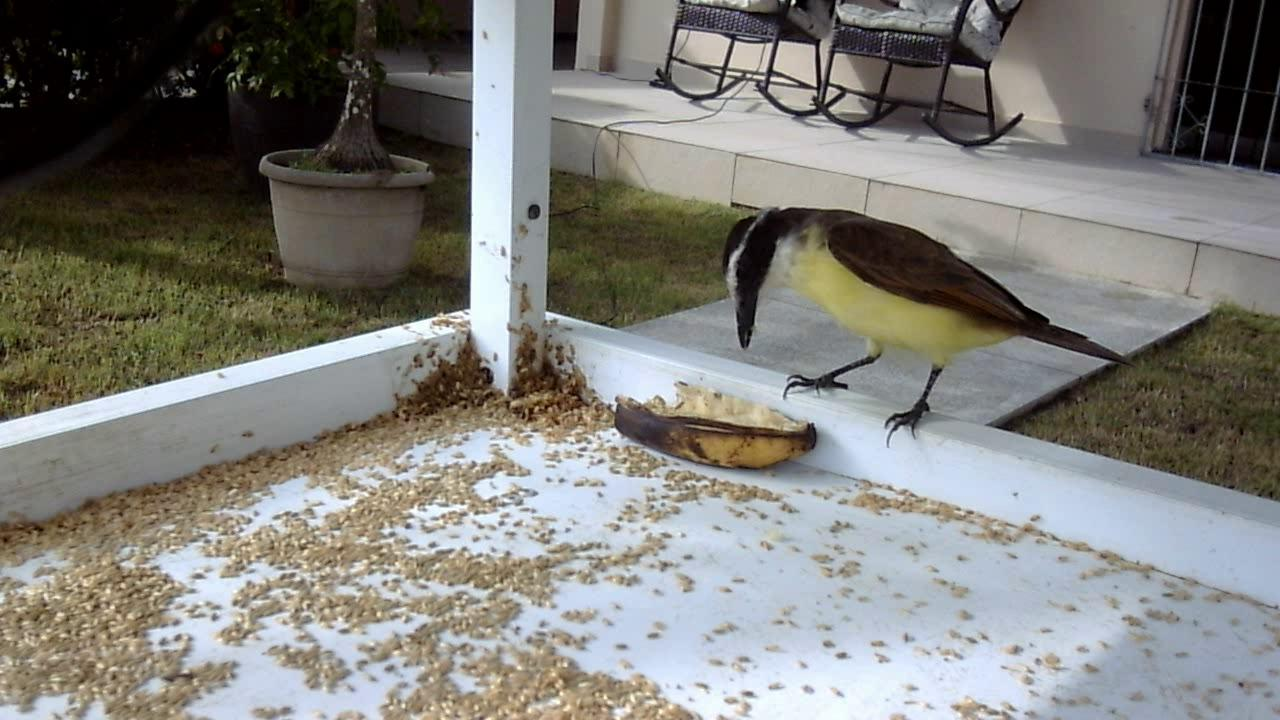bem_te_vi: (706, 181, 1139, 467)
